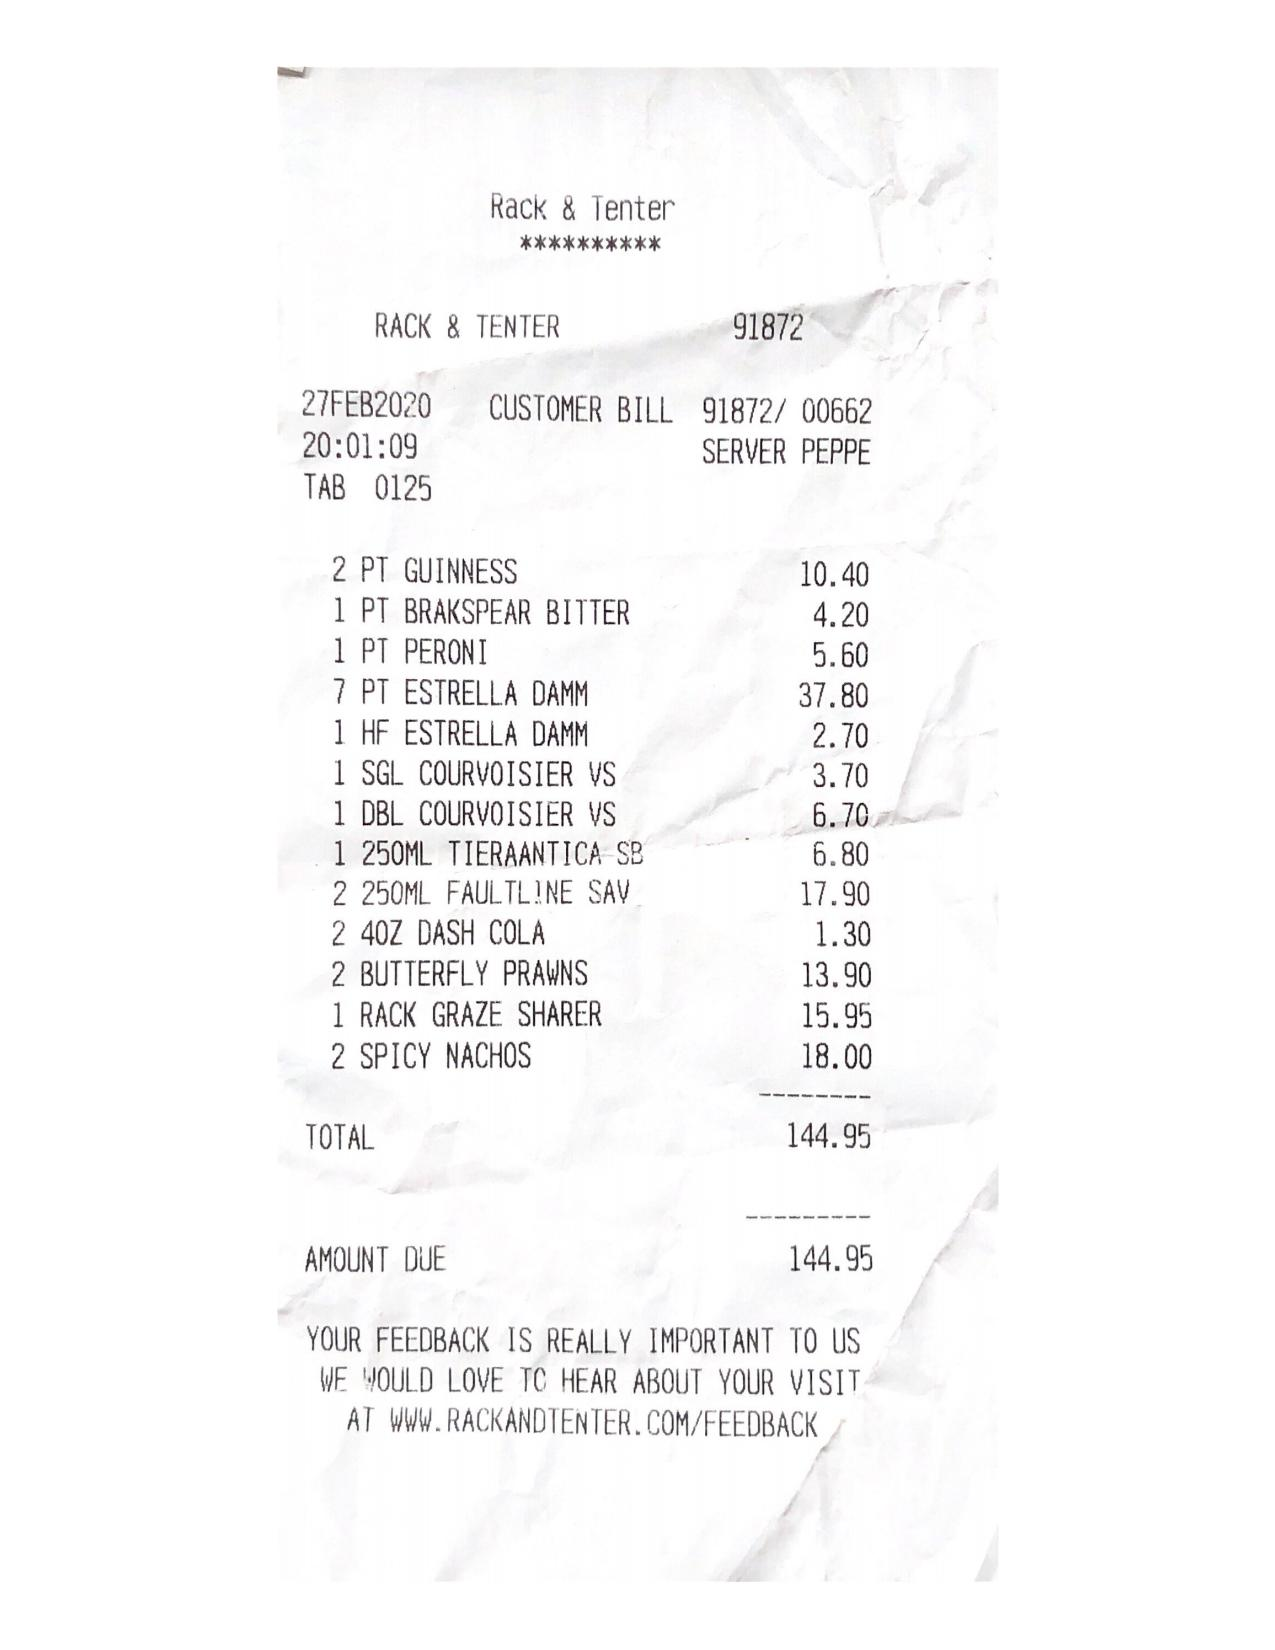Amount: (787, 1121, 872, 1196)
Date: (303, 390, 430, 417)
company_name: (492, 193, 674, 221)
